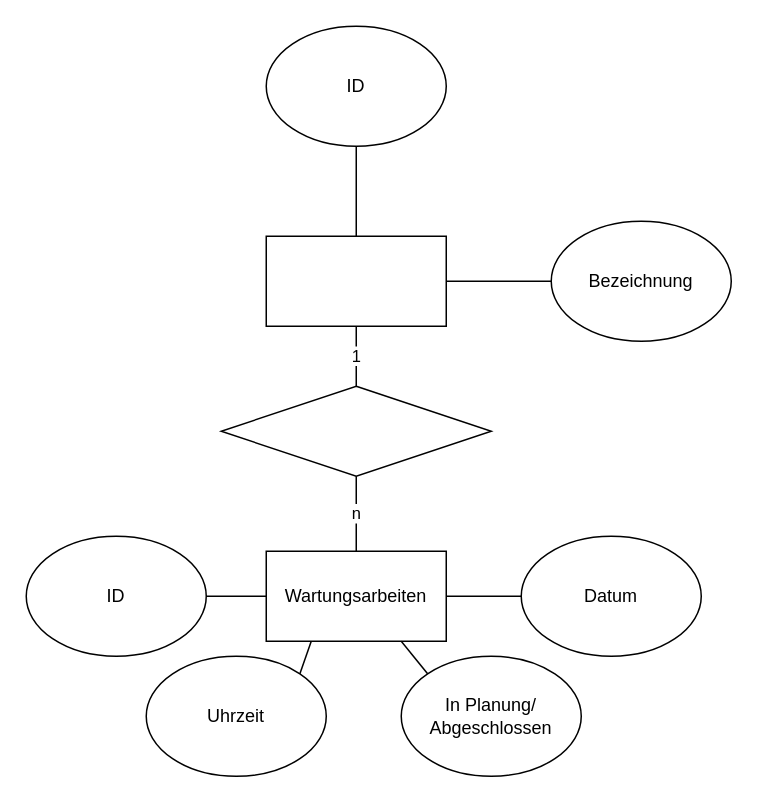
The diagram is 758 pixels wide and 803 high, and some of its shapes have lost their labels. Each missing label, with the box of its shape:
Anlage: (265, 235, 446, 326)
hat: (220, 385, 491, 476)
